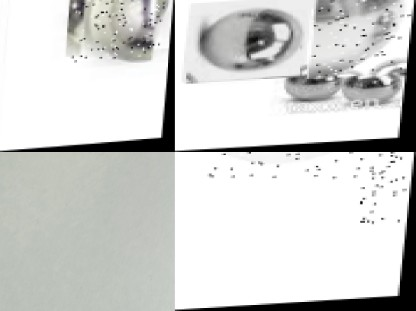ironball: (307, 0, 415, 81), (194, 5, 303, 72), (72, 0, 166, 63), (282, 56, 363, 107), (348, 69, 398, 107)
